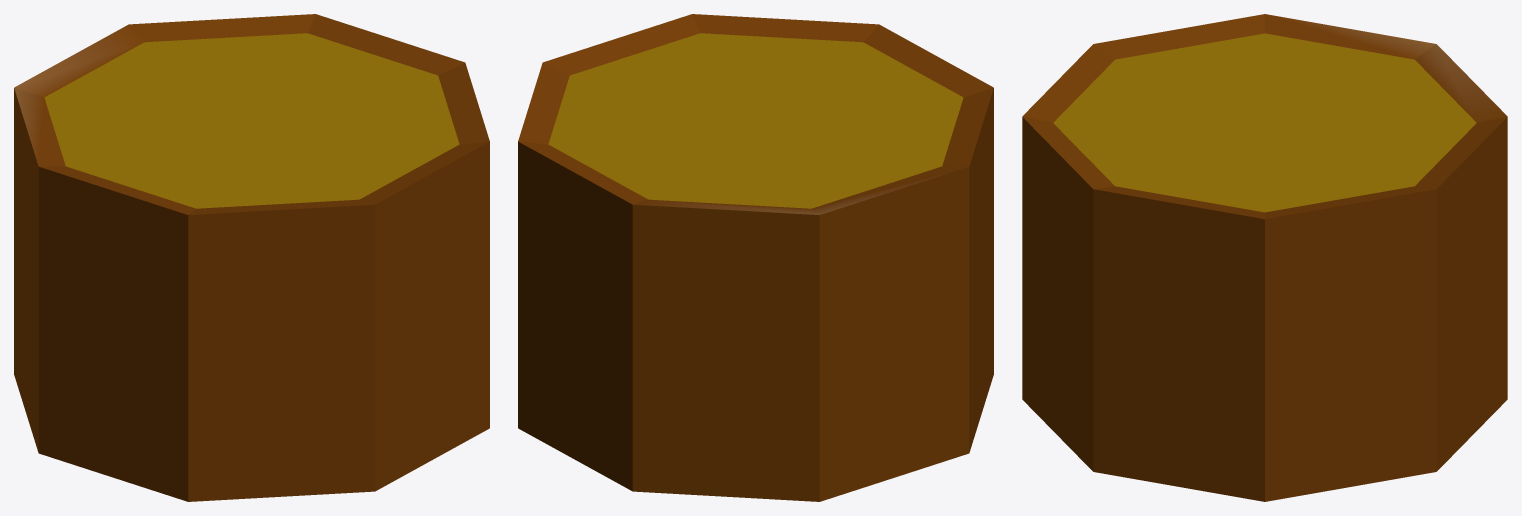
File: CutTree.fbx
The picture shows the model from 3 angles, left to right: view 1: azimuth 30°, elevation 25°; view 2: azimuth 150°, elevation 25°; view 3: azimuth 270°, elevation 25°; orthographic projection.
Visible parts, largest first — view 1: Cylinder; view 2: Cylinder; view 3: Cylinder.
Part boxes in pixels (x1,y1,x2,y2): Cylinder: (14,14,489,501); Cylinder: (518,14,993,501); Cylinder: (1022,14,1507,501).
Bounding box in the file's own units: 2 × 1.28 × 2.
